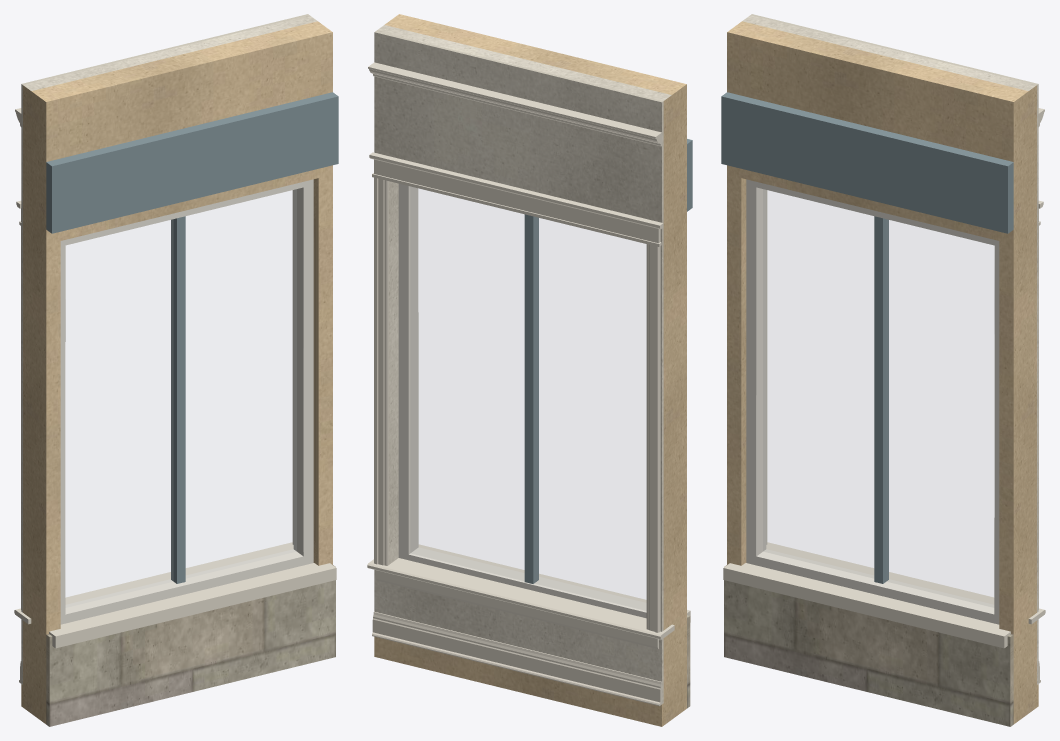
The model's file is wall_shop_window.glb.
3 renders of one model, left to right at view 1: azimuth 30°, elevation 25°; view 2: azimuth 150°, elevation 25°; view 3: azimuth 330°, elevation 25°, orthographic.
Parts seen in each view (by area): view 1: folha_glass, wall_shop_window_render, wall_shop_window_stone, wall_shop_window_fascia, wall_shop_window_frame, wall_shop_window_trim, wall_shop_window_frame2, wall_shop_window_plaster, molduras; view 2: folha_glass, wall_shop_window_plaster, molduras, wall_shop_window_render, wall_shop_window_frame, folha_frame, folha_frame2, wall_shop_window_frame2, wall_shop_window_trim; view 3: folha_glass, wall_shop_window_render, wall_shop_window_stone, wall_shop_window_fascia, wall_shop_window_frame, wall_shop_window_trim, wall_shop_window_frame2, wall_shop_window_plaster, molduras.
Part boxes in pixels (x1=…): folha_glass: x1=66, y1=190, x2=296, y2=606; wall_shop_window_render: x1=21, y1=21, x2=332, y2=724; wall_shop_window_stone: x1=46, y1=564, x2=335, y2=726; wall_shop_window_fascia: x1=46, y1=92, x2=338, y2=233; wall_shop_window_frame: x1=60, y1=179, x2=313, y2=624; wall_shop_window_trim: x1=49, y1=563, x2=336, y2=648; wall_shop_window_frame2: x1=171, y1=216, x2=185, y2=583; wall_shop_window_plaster: x1=21, y1=14, x2=317, y2=684; molduras: x1=14, y1=108, x2=293, y2=683; folha_glass: x1=411, y1=187, x2=645, y2=609; wall_shop_window_plaster: x1=374, y1=25, x2=671, y2=703; molduras: x1=367, y1=62, x2=674, y2=706; wall_shop_window_render: x1=374, y1=14, x2=686, y2=726; wall_shop_window_frame: x1=408, y1=186, x2=646, y2=612; folha_frame: x1=398, y1=183, x2=646, y2=618; folha_frame2: x1=524, y1=214, x2=533, y2=583; wall_shop_window_frame2: x1=533, y1=216, x2=538, y2=583; wall_shop_window_trim: x1=418, y1=544, x2=690, y2=622; folha_glass: x1=763, y1=190, x2=993, y2=606; wall_shop_window_render: x1=727, y1=21, x2=1038, y2=724; wall_shop_window_stone: x1=724, y1=564, x2=1013, y2=726; wall_shop_window_fascia: x1=721, y1=92, x2=1013, y2=233; wall_shop_window_frame: x1=746, y1=179, x2=999, y2=624; wall_shop_window_trim: x1=723, y1=563, x2=1010, y2=648; wall_shop_window_frame2: x1=874, y1=216, x2=888, y2=583; wall_shop_window_plaster: x1=742, y1=14, x2=1038, y2=684; molduras: x1=766, y1=108, x2=1045, y2=683.
Size of the model in its own units: 2.04 by 4.15 by 0.455.
Materials: 8 (3 with a texture image).
